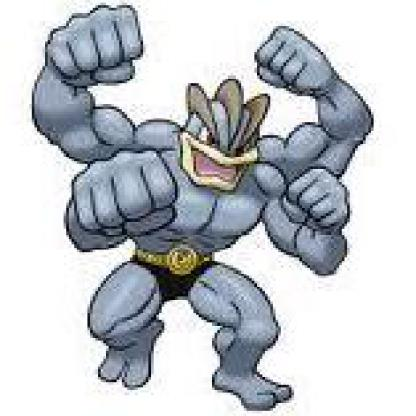Machamp: (31, 1, 376, 415)
